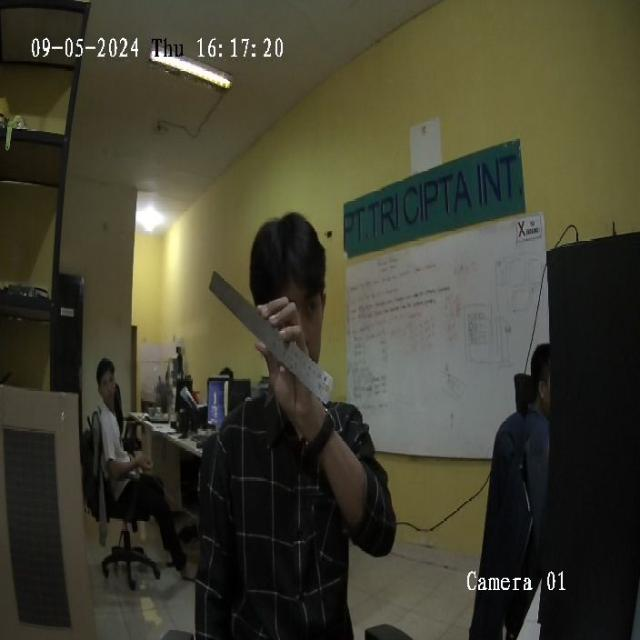Ruler: (210, 272, 333, 398)
